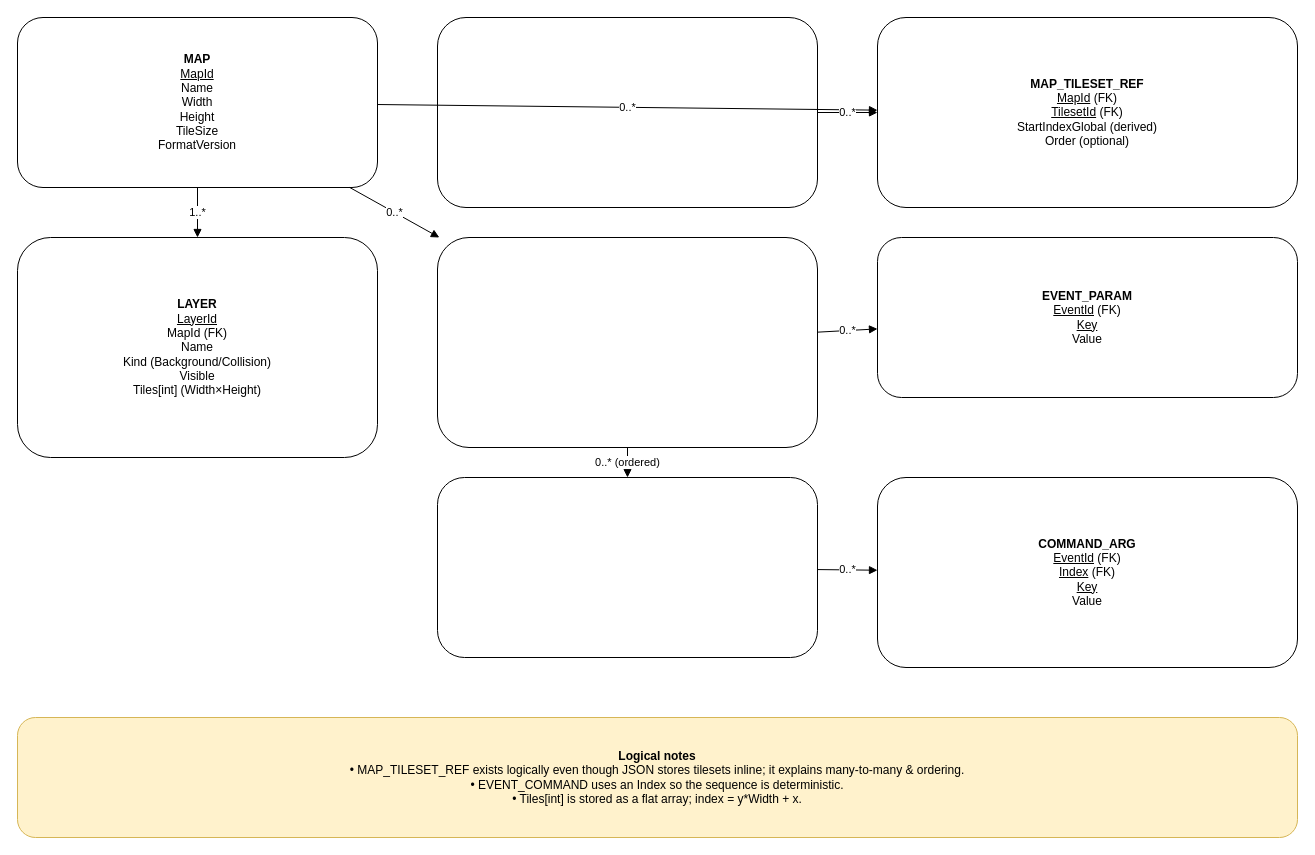
Image size: 1315x855. Some labels were removed from this diagram. Each missing label, with the box of its shape:
EVENT EventId MapId (FK) Name Type (Trigger/NPC/Warp) X Y: (436, 236, 818, 448)
EVENT_COMMAND EventId (FK) Index (ordered) CommandName Args (dict): (436, 476, 818, 658)
TILESET TilesetId ImagePath (rel) TileWidth TileHeight Margin Spacing: (436, 16, 818, 208)
